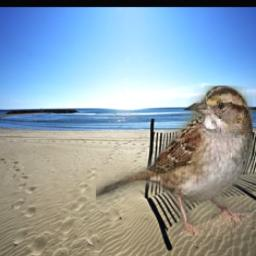Sparrow: (96, 87, 253, 237)
